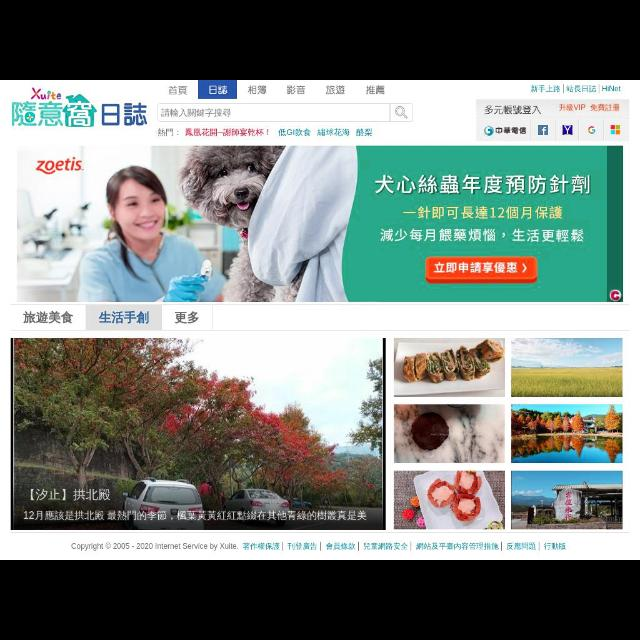button: (391, 106, 411, 120)
icon: (396, 105, 408, 118)
image: (18, 146, 622, 302), (12, 338, 386, 530), (512, 337, 622, 397), (13, 85, 150, 133), (393, 338, 505, 396), (394, 405, 504, 463), (512, 405, 622, 463), (394, 471, 504, 529), (512, 471, 622, 529), (484, 124, 528, 136), (610, 123, 622, 137), (586, 124, 598, 136), (538, 122, 548, 136), (564, 122, 574, 136)
input: (158, 105, 390, 121)
link: (416, 540, 500, 552), (362, 540, 408, 552), (277, 126, 311, 140), (242, 540, 280, 552), (326, 539, 356, 553), (318, 125, 350, 138), (287, 540, 317, 552), (506, 540, 536, 552), (565, 84, 597, 95), (528, 84, 562, 94), (542, 540, 568, 552), (354, 125, 374, 138), (601, 85, 623, 93)
multitab: (240, 536, 578, 554), (16, 307, 212, 331), (164, 81, 390, 101)
text: (69, 536, 238, 554), (158, 126, 272, 138), (160, 106, 232, 122), (22, 310, 74, 328), (96, 310, 150, 326), (556, 102, 622, 115), (484, 103, 544, 117), (174, 311, 200, 327), (248, 82, 268, 96), (286, 82, 306, 96), (167, 84, 189, 96), (366, 87, 386, 97), (325, 86, 345, 95)
textbutton: (199, 81, 237, 99)
